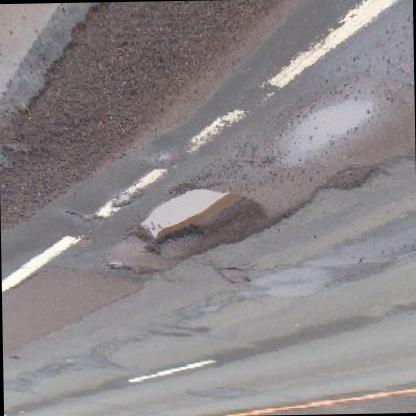pothole: (128, 182, 266, 260), (324, 160, 376, 194), (105, 259, 130, 275)
